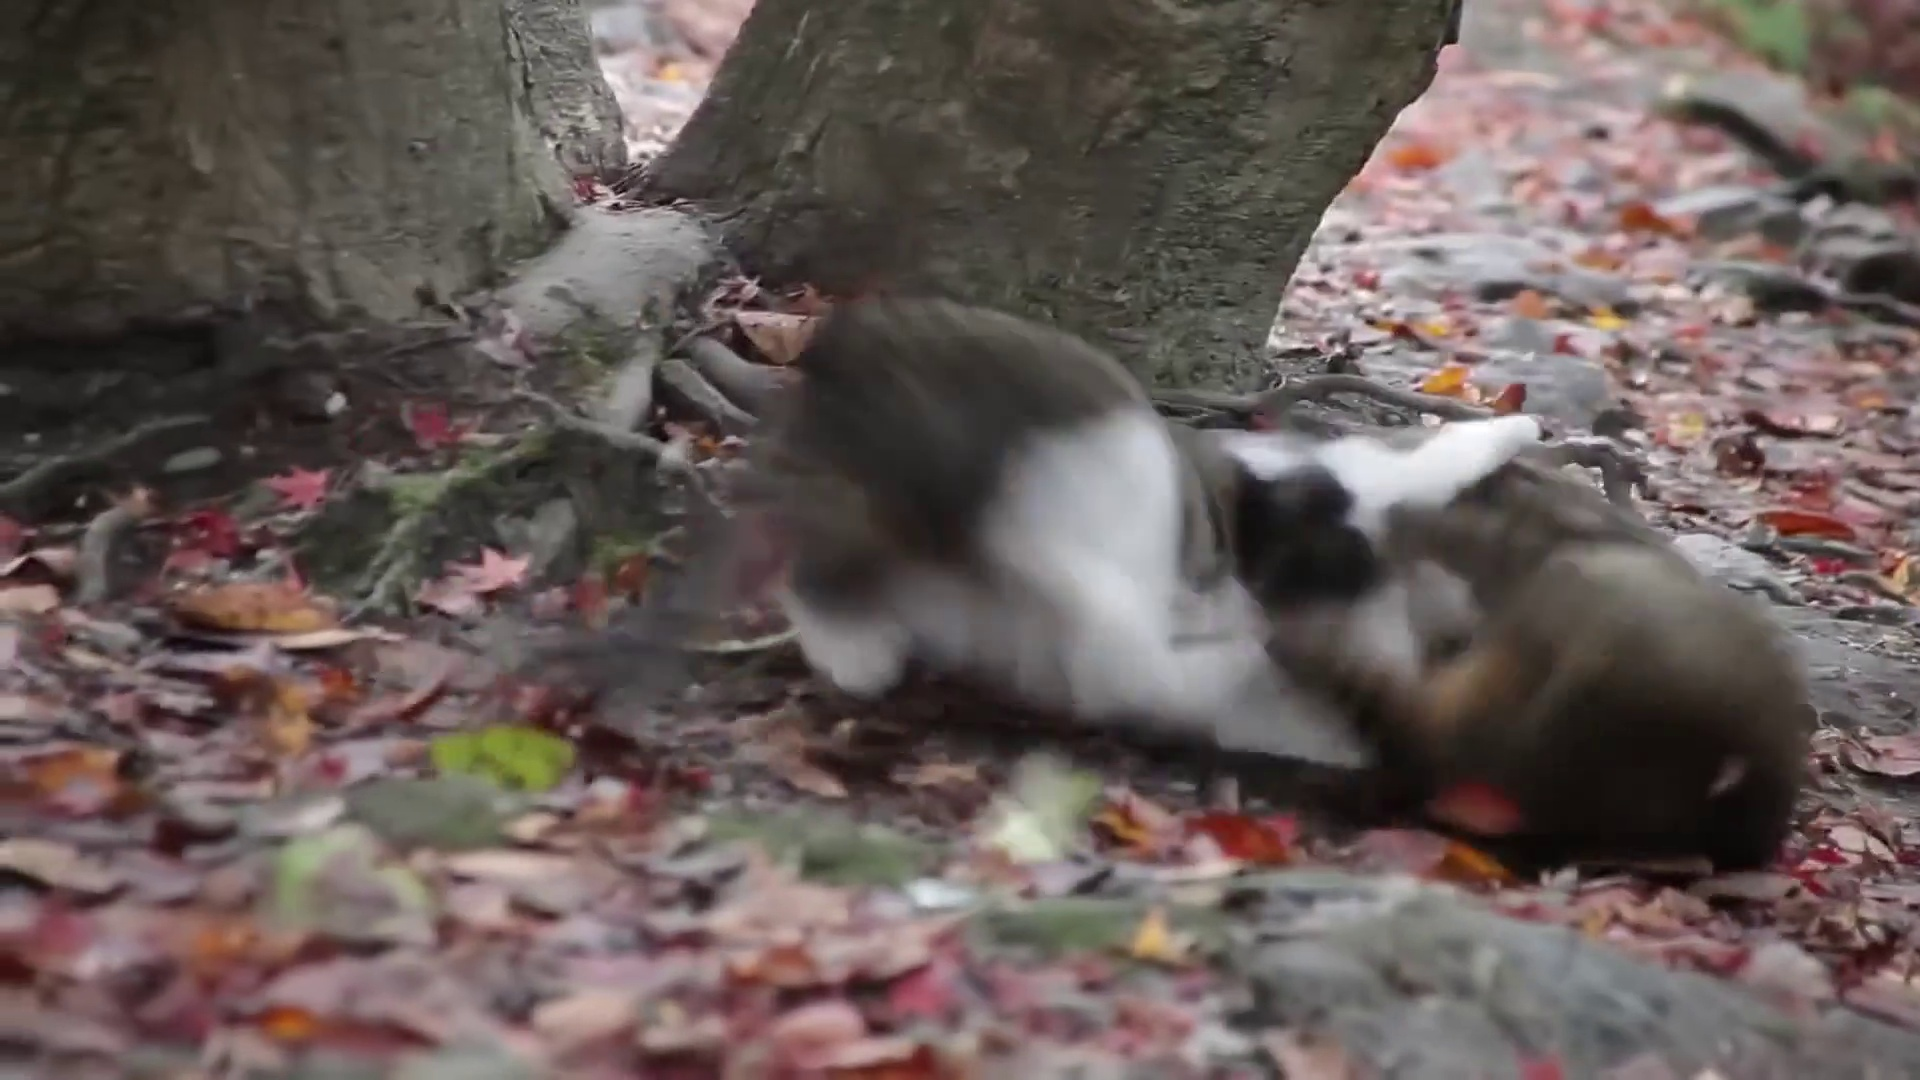black-white: (775, 293, 1543, 766)
pure black: (1263, 462, 1811, 868)
